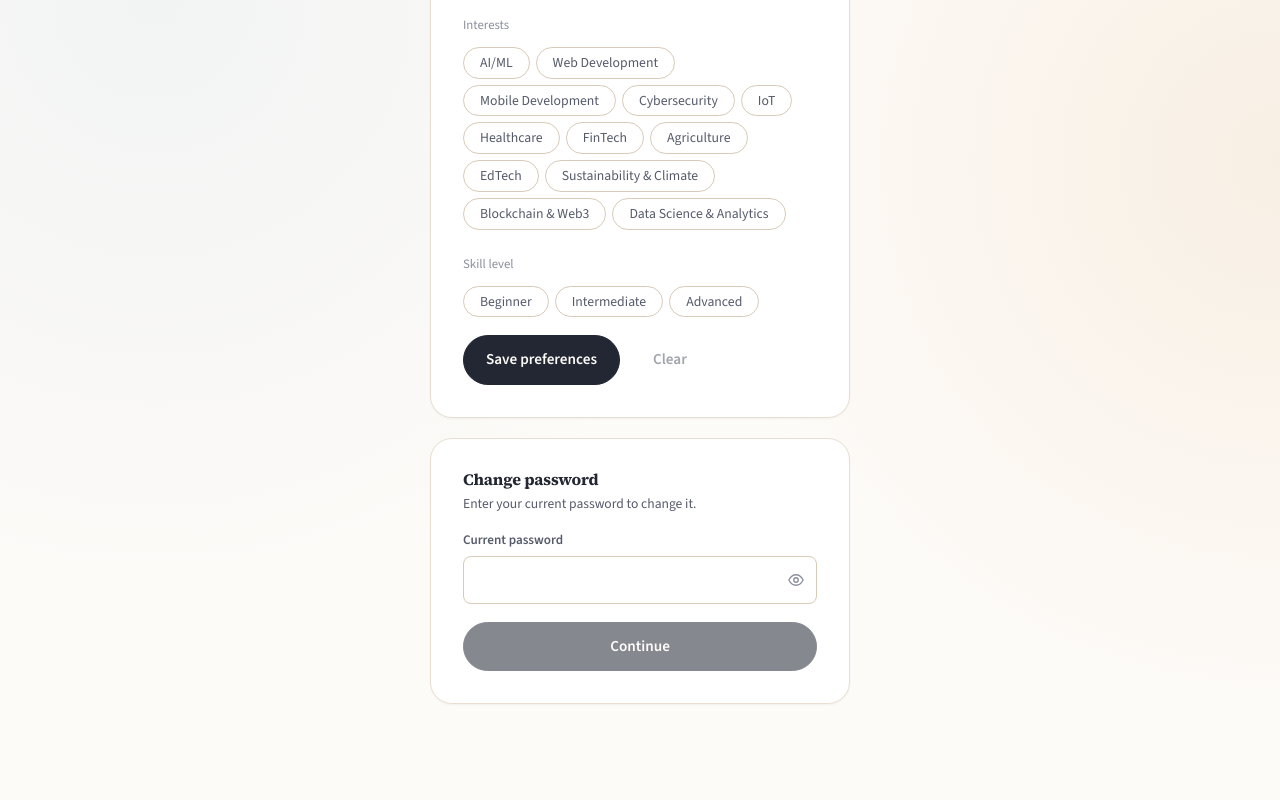
Profile — change password gate › reveals new-password fields once the current password verifies, and submits both to updateProfile
(page scrolled)
Type "correct-horse-battery" into the password field labelled "Current password" at (640, 580), box [463,556,817,604]
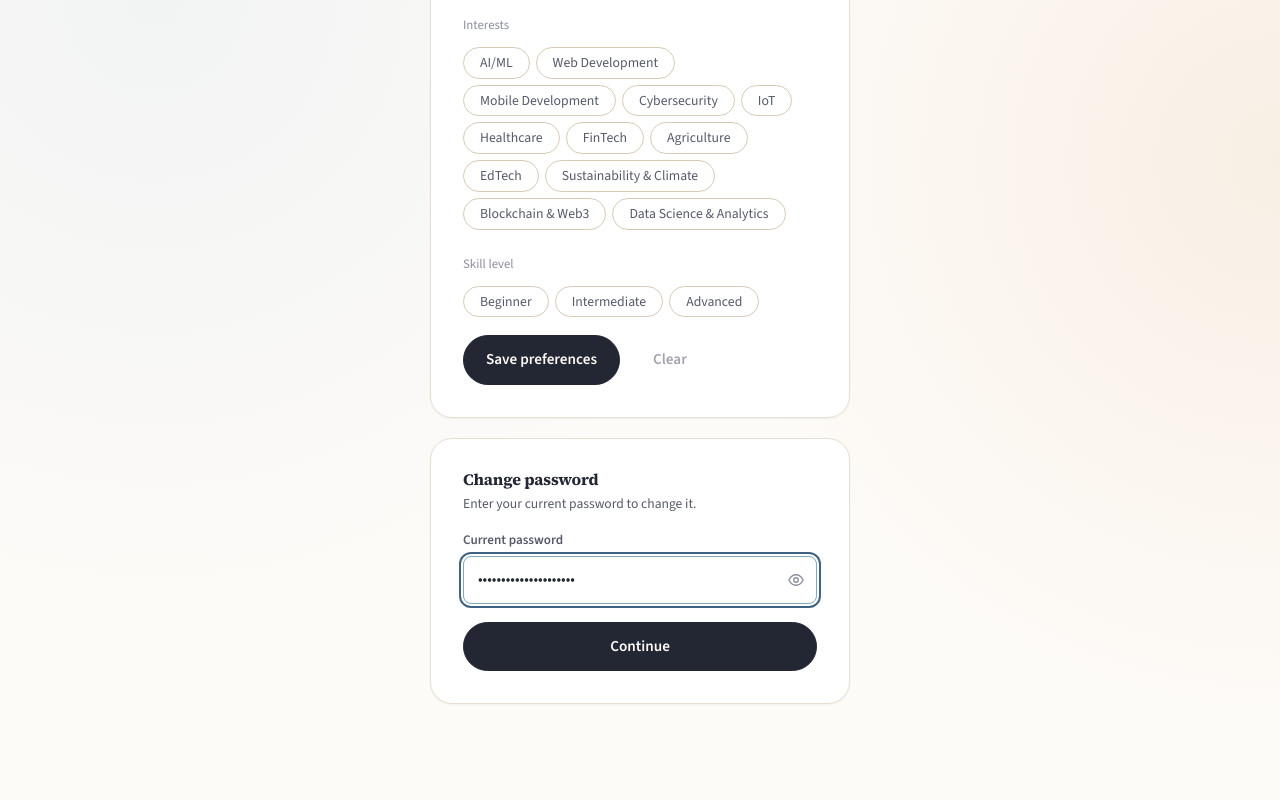
Click the button "Continue" at (640, 646), box [463,622,817,671]
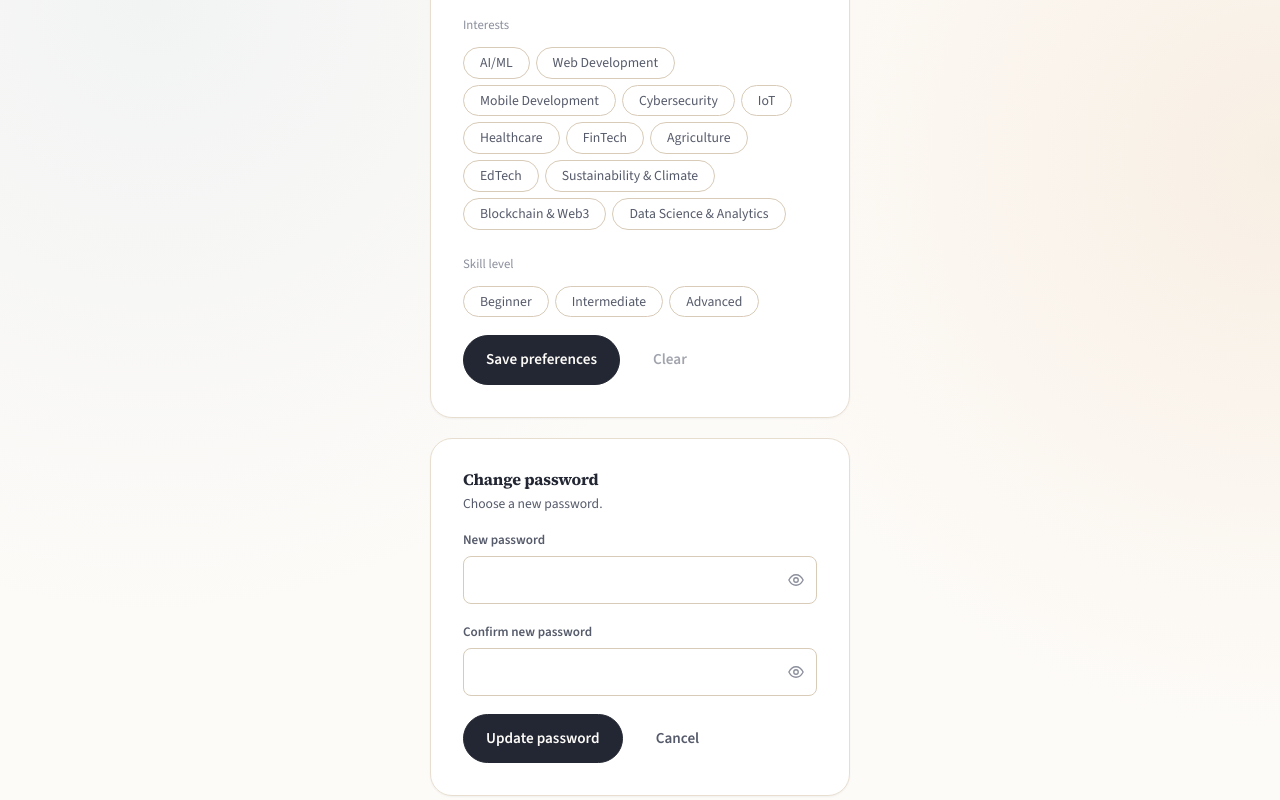
Type "brand-new-password1" into the password field labelled "New password" at (640, 580), box [463,556,817,604]
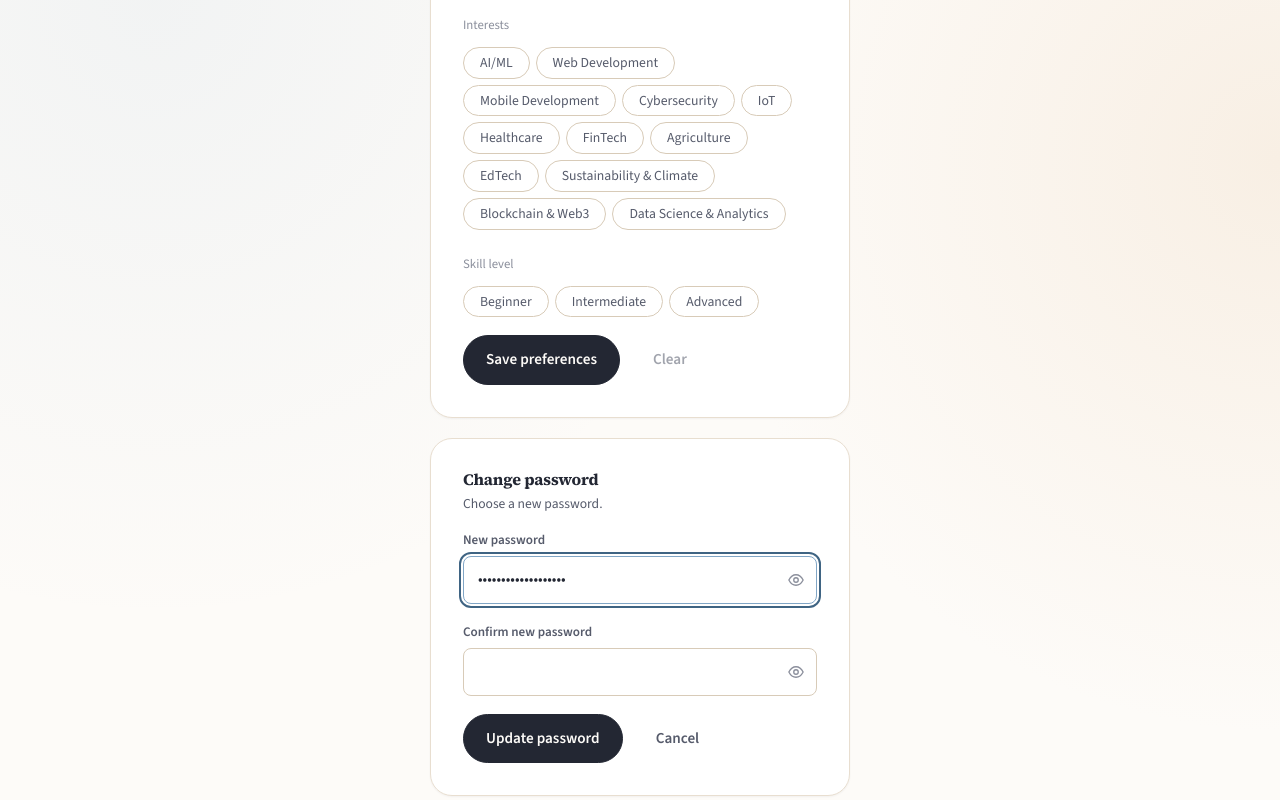
Type "brand-new-password1" into the password field labelled "Confirm new password" at (640, 672), box [463,648,817,696]
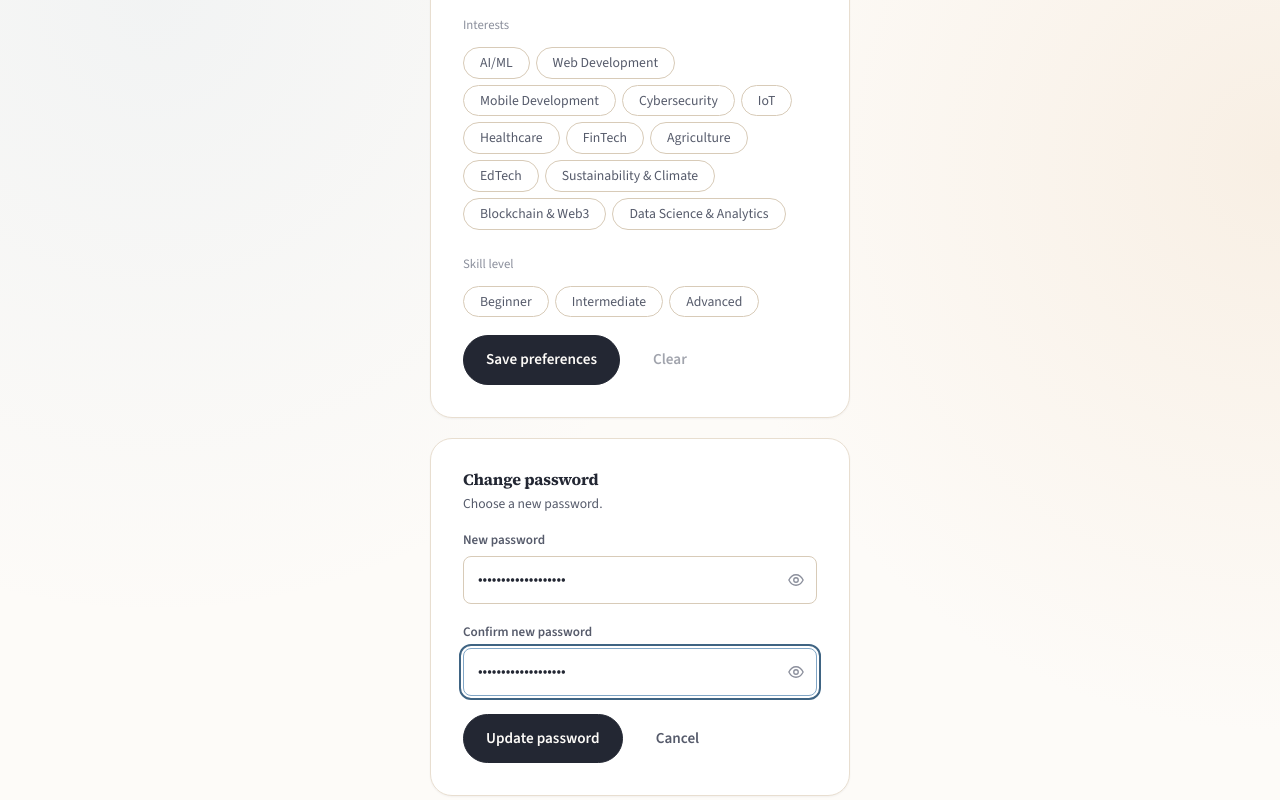
Click the button "Update password" at (543, 738), box [463,714,623,763]
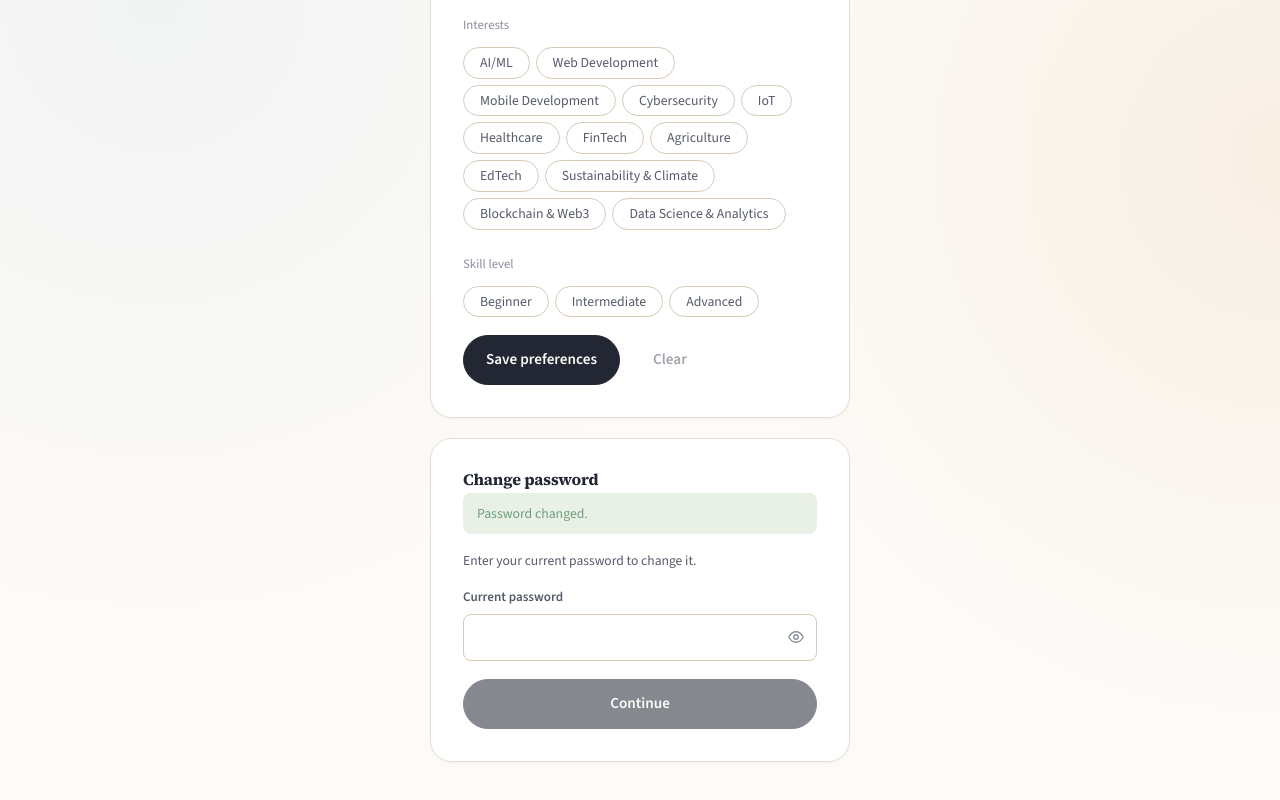
Result: the text "Password changed." is shown at [463,493,817,534]
